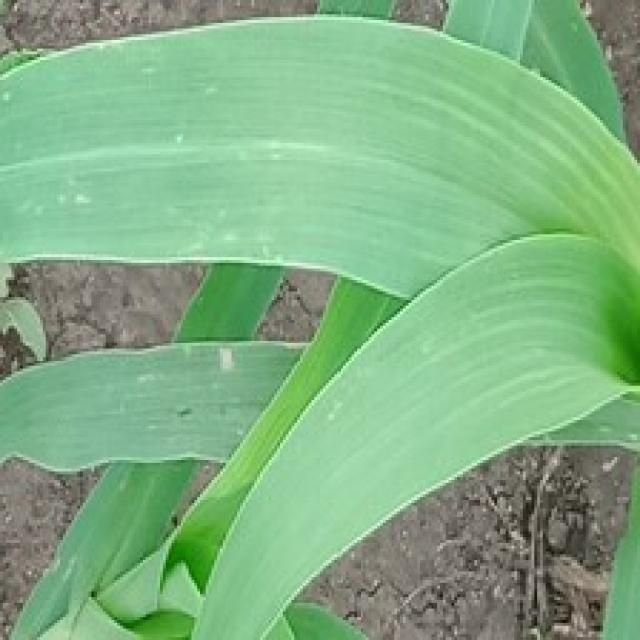Corn: (0, 0, 637, 637), (0, 3, 637, 303), (177, 229, 637, 637)
